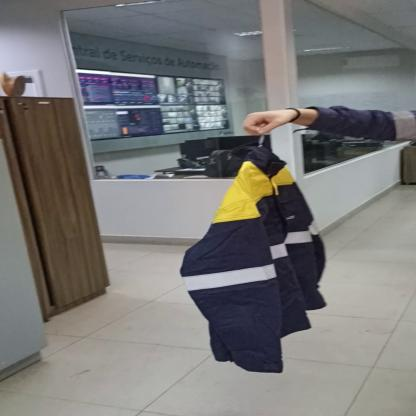C_eletrica: (180, 151, 336, 374)
